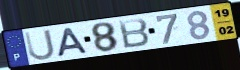7: (154, 12, 179, 45)
8: (90, 21, 121, 54), (186, 10, 212, 41)
A: (55, 26, 90, 58)
B: (117, 17, 152, 50)
U: (23, 28, 57, 62)
